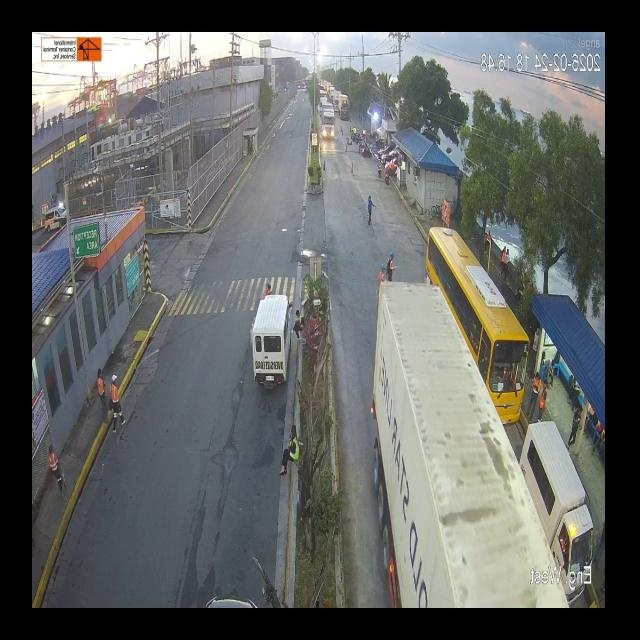bus: (105, 218, 535, 424)
car: (531, 428, 593, 588), (235, 292, 291, 388)
truck: (112, 287, 528, 596), (315, 99, 339, 145)
